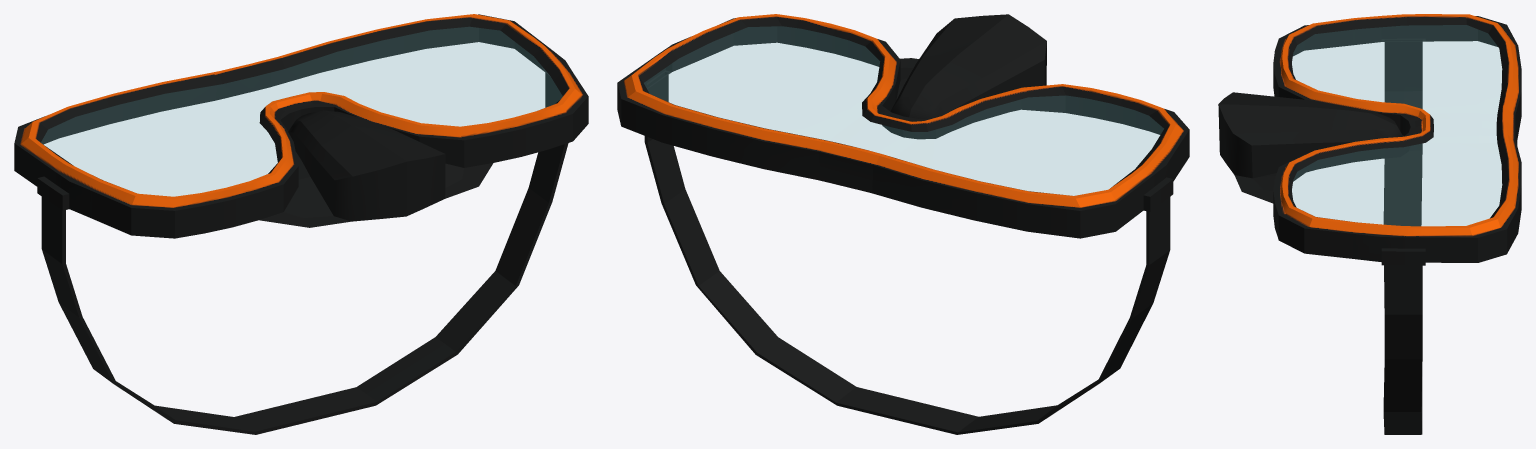
File: Scuba_Goggles.fbx
3 views of the same model, side by side, from view 1: azimuth 30°, elevation 25°; view 2: azimuth 150°, elevation 25°; view 3: azimuth 270°, elevation 25° (orthographic). The views are drawn at different scales.
Parts seen in each view (by area): view 1: pCube23; view 2: pCube23; view 3: pCube23.
Part boxes in pixels (x1,y1,x2,y2): pCube23: (14,14,588,434); pCube23: (617,14,1189,434); pCube23: (1218,14,1521,434).
Size of the model in its own units: 385 by 234 by 217.
